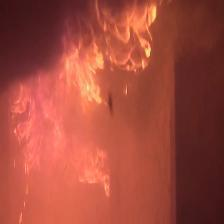fire: (6, 5, 161, 193)
